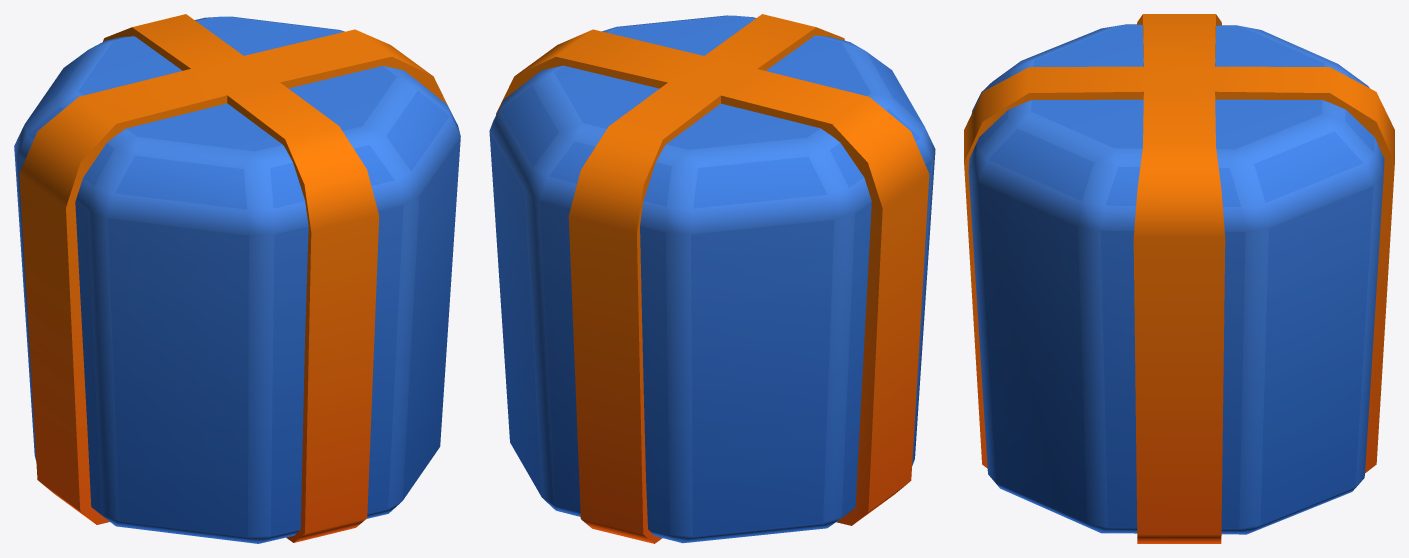
Rendered from giftbox_043.fbx.
3 views of the same model, side by side, from view 1: azimuth 30°, elevation 25°; view 2: azimuth 150°, elevation 25°; view 3: azimuth 270°, elevation 25° (orthographic).
Parts seen in each view (by area): view 1: giftbox_043; view 2: giftbox_043; view 3: giftbox_043.
Part boxes in pixels (bbox=[...]): giftbox_043: bbox=[14, 14, 460, 543]; giftbox_043: bbox=[489, 14, 935, 543]; giftbox_043: bbox=[964, 14, 1394, 543].
Bounding box in the file's own units: 236 × 232 × 231.
